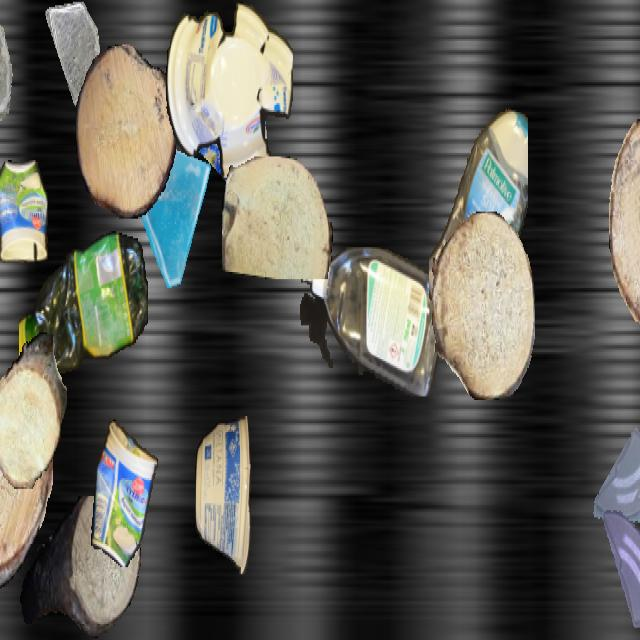glass: (176, 54, 270, 220), (130, 134, 220, 294), (591, 423, 640, 551), (45, 2, 103, 105), (596, 507, 640, 638), (0, 2, 13, 130)
plastic: (429, 102, 527, 340), (166, 2, 292, 180), (300, 247, 446, 397), (19, 224, 147, 388), (89, 420, 159, 566), (195, 416, 251, 572), (0, 160, 48, 263)
wood: (432, 212, 534, 400), (19, 496, 141, 638), (76, 45, 176, 218), (222, 156, 332, 278), (0, 332, 67, 489), (0, 400, 53, 588), (609, 109, 640, 343)
